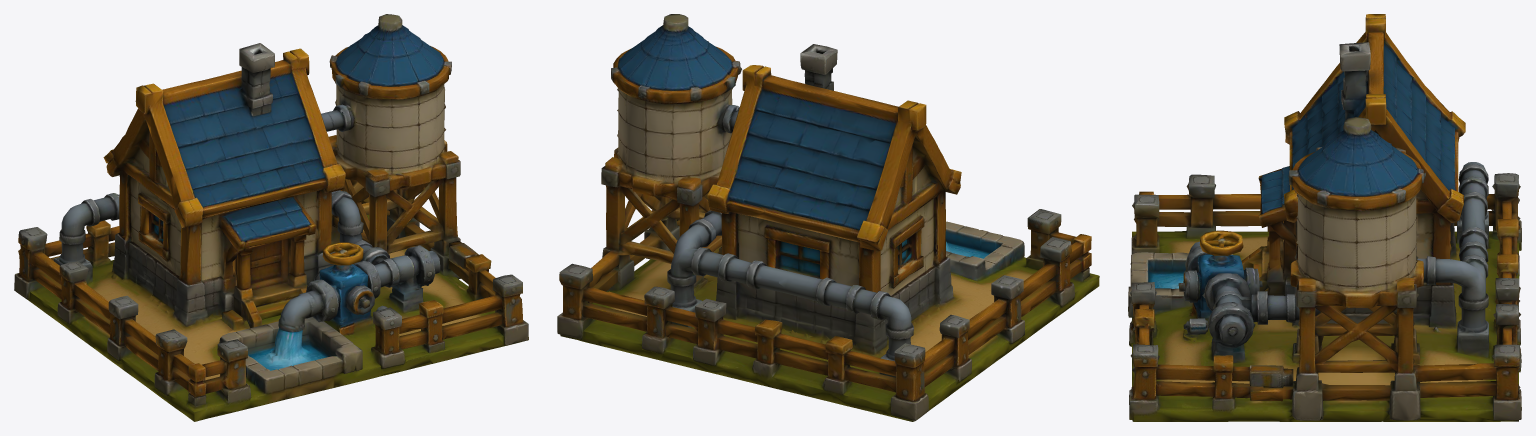
File: water_pump.glb
The picture shows the model from 3 angles, left to right: view 1: azimuth 30°, elevation 25°; view 2: azimuth 150°, elevation 25°; view 3: azimuth 270°, elevation 25°; orthographic projection. The views are drawn at different scales.
Parts seen in each view (by area): view 1: tripo_node_419b1be8-802f-4a63-92b7-5f10e02208c8; view 2: tripo_node_419b1be8-802f-4a63-92b7-5f10e02208c8; view 3: tripo_node_419b1be8-802f-4a63-92b7-5f10e02208c8.
Boxes of the visible parts, box(x1,y1,x2,y2) form: tripo_node_419b1be8-802f-4a63-92b7-5f10e02208c8: box(14, 14, 528, 421); tripo_node_419b1be8-802f-4a63-92b7-5f10e02208c8: box(557, 14, 1099, 421); tripo_node_419b1be8-802f-4a63-92b7-5f10e02208c8: box(1128, 14, 1521, 421).
Bounding box in the file's own units: 1 × 0.6927 × 0.8742.
1 material, 1 textured.
